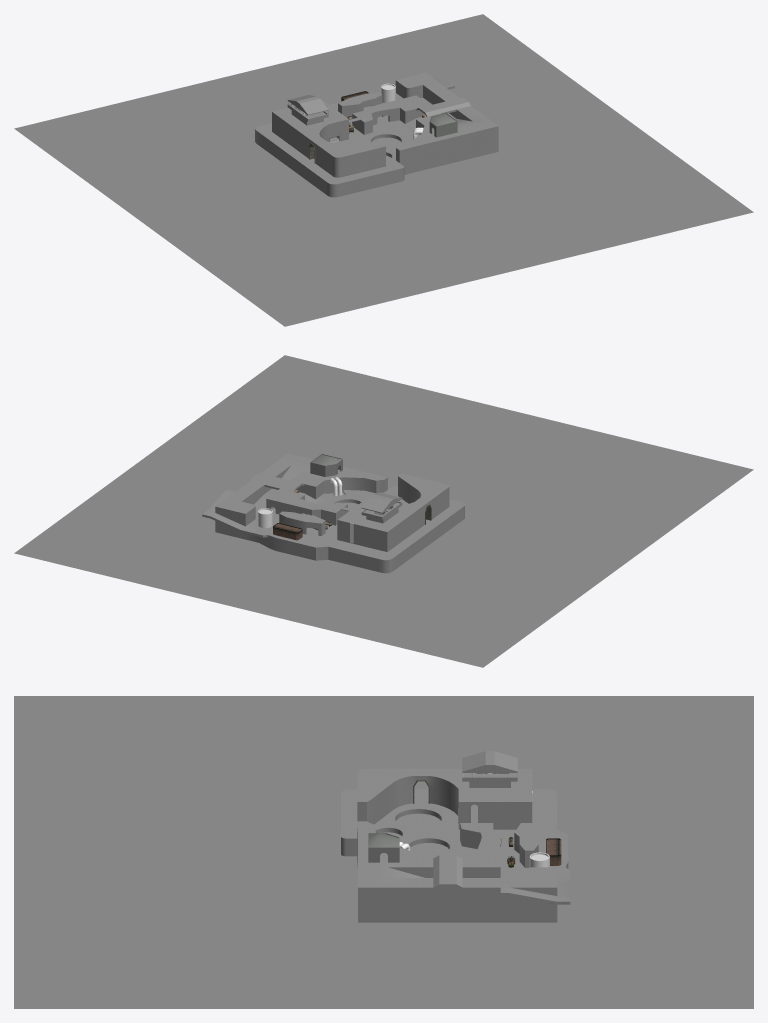
File: Sewer.glb
3 renders of one model, top to bottom at view 1: azimuth 30°, elevation 25°; view 2: azimuth 150°, elevation 25°; view 3: azimuth 270°, elevation 25°, orthographic. The views are drawn at different scales.
Parts seen in each view (by area): view 1: water_floor, Center, Tower, TopTower; view 2: water_floor, Center, Tower, TopTower; view 3: water_floor, Center, Tower, TopTower.
Boxes of the visible parts, left/top/right/bottom form: water_floor: left=14, top=14, right=753, bottom=326; Center: left=255, top=72, right=498, bottom=197; Tower: left=287, top=95, right=339, bottom=142; TopTower: left=429, top=113, right=457, bottom=137; water_floor: left=14, top=355, right=753, bottom=667; Center: left=202, top=453, right=464, bottom=573; Tower: left=347, top=493, right=402, bottom=543; TopTower: left=310, top=454, right=342, bottom=476; water_floor: left=14, top=696, right=753, bottom=1008; Center: left=341, top=768, right=570, bottom=922; Tower: left=462, top=751, right=517, bottom=812; TopTower: left=368, top=833, right=399, bottom=862.
Size of what is drawn, in the model's own units: 225 by 67.75 by 225.
Materials: 10 (7 with a texture image).
